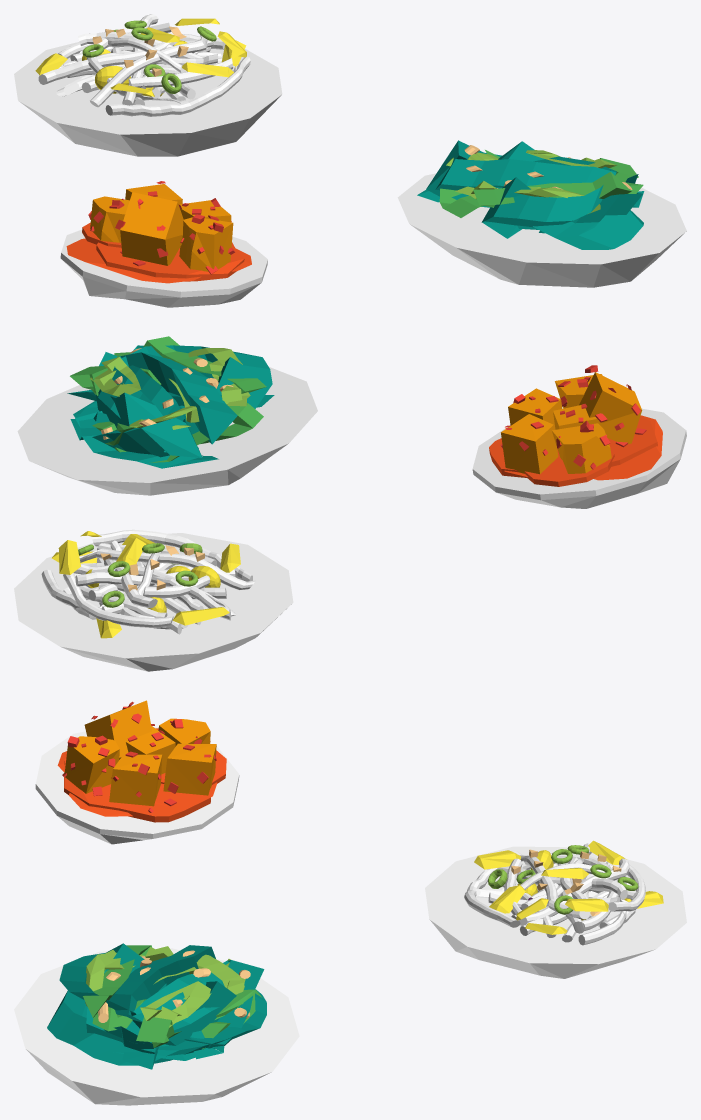
The model's file is dish.glb.
3 renders of one model, top to bottom at view 1: azimuth 30°, elevation 25°; view 2: azimuth 150°, elevation 25°; view 3: azimuth 270°, elevation 25°, orthographic. The views are drawn at different scales.
Visible parts, largest first — view 1: group1756275732, group1513834195, group1190115019, group154440125, group1122900244, group519330257, group427630264, group1632664430, group53953675, group592575834, group1099084917, group1766754450 (+5 smaller); view 2: group1756275732, group1513834195, group1190115019, group154440125, group1122900244, group1632664430, group519330257, group53953675, group427630264, group342658285, group598213197, group592575834 (+8 smaller); view 3: group1756275732, group1190115019, group1513834195, group154440125, group519330257, group1632664430, group1122900244, group427630264, group53953675, group1553472490, group598213197, group1270704289 (+1 smaller).
Boxes of the visible parts, left/top/right/bottom form: group1756275732: left=60, top=181, right=267, bottom=307; group1513834195: left=14, top=33, right=282, bottom=156; group1190115019: left=397, top=173, right=686, bottom=287; group154440125: left=426, top=140, right=642, bottom=229; group1122900244: left=439, top=150, right=643, bottom=217; group519330257: left=417, top=189, right=643, bottom=249; group427630264: left=105, top=56, right=250, bottom=116; group1632664430: left=446, top=150, right=616, bottom=214; group53953675: left=90, top=26, right=207, bottom=107; group592575834: left=66, top=238, right=201, bottom=283; group1099084917: left=38, top=42, right=177, bottom=84; group1766754450: left=128, top=58, right=233, bottom=87; group1756275732: left=472, top=365, right=686, bottom=508; group1513834195: left=14, top=533, right=293, bottom=671; group1190115019: left=17, top=367, right=317, bottom=495; group154440125: left=75, top=345, right=272, bottom=457; group1122900244: left=70, top=336, right=266, bottom=462; group1632664430: left=89, top=348, right=250, bottom=429; group519330257: left=78, top=401, right=218, bottom=468; group53953675: left=79, top=548, right=255, bottom=590; group427630264: left=92, top=529, right=252, bottom=581; group342658285: left=524, top=449, right=614, bottom=486; group598213197: left=67, top=576, right=173, bottom=627; group592575834: left=594, top=415, right=662, bottom=480; group1756275732: left=35, top=700, right=239, bottom=844; group1190115019: left=14, top=948, right=299, bottom=1105; group1513834195: left=425, top=846, right=686, bottom=978; group154440125: left=59, top=943, right=264, bottom=1053; group519330257: left=47, top=989, right=266, bottom=1065; group1632664430: left=85, top=946, right=245, bottom=1027; group1122900244: left=83, top=945, right=261, bottom=1049; group427630264: left=464, top=868, right=520, bottom=927; group53953675: left=513, top=851, right=589, bottom=919; group1553472490: left=511, top=858, right=629, bottom=925; group598213197: left=608, top=864, right=645, bottom=911; group1270704289: left=497, top=866, right=627, bottom=899.
Size of the model in its own units: 0.62 by 0.1689 by 0.6125.
